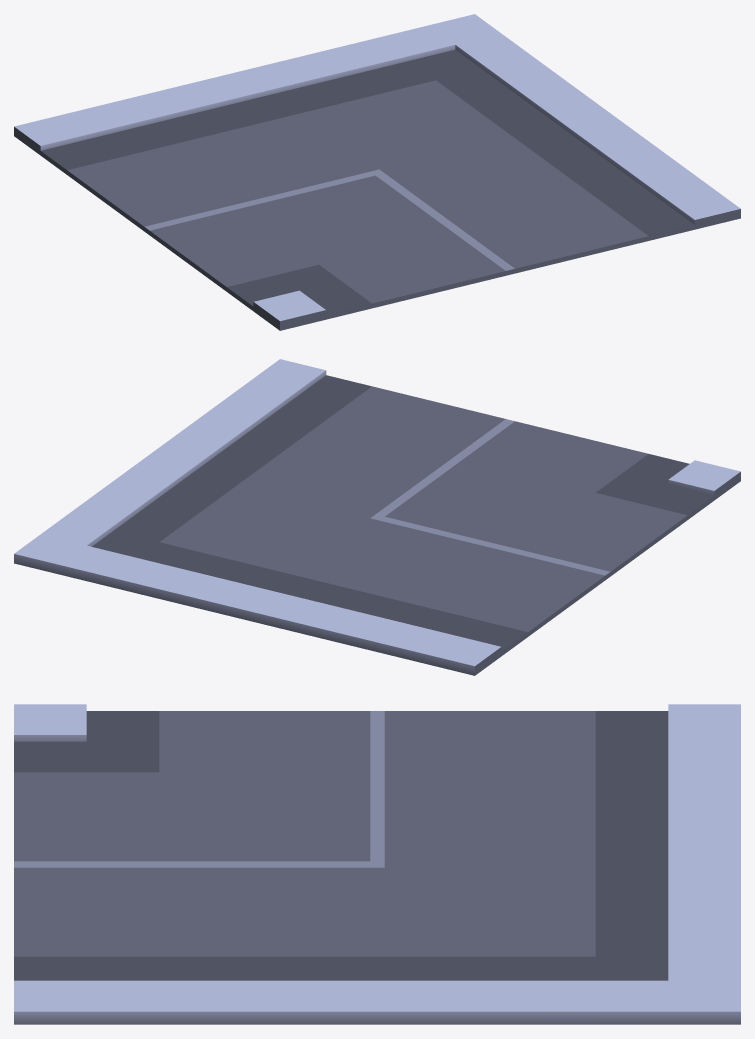
File: road-bend-square.fbx
3 views of the same model, one above another, from view 1: azimuth 30°, elevation 25°; view 2: azimuth 150°, elevation 25°; view 3: azimuth 270°, elevation 25° (orthographic). The views are drawn at different scales.
Visible parts, largest first — view 1: road-bend-square; view 2: road-bend-square; view 3: road-bend-square.
Part boxes in pixels (bbox=[...]): road-bend-square: bbox=[14, 14, 740, 330]; road-bend-square: bbox=[14, 359, 740, 675]; road-bend-square: bbox=[14, 704, 740, 1024].
Bounding box in the file's own units: 100 × 2 × 100.
